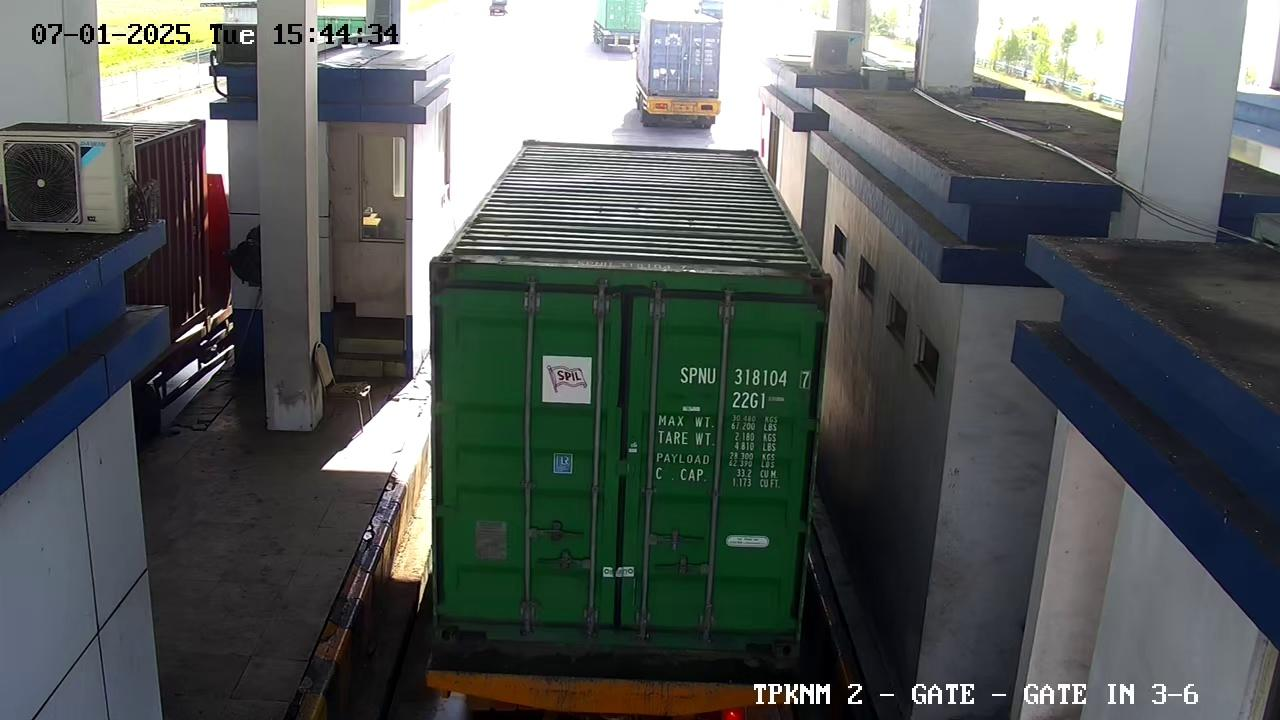Container_ID: (676, 360, 820, 414)
